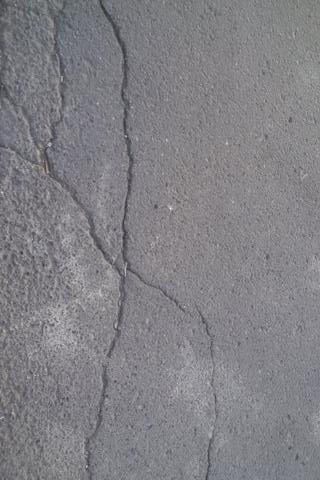A: (131, 268, 223, 480), (1, 1, 87, 206), (76, 210, 129, 480), (100, 1, 141, 256)
